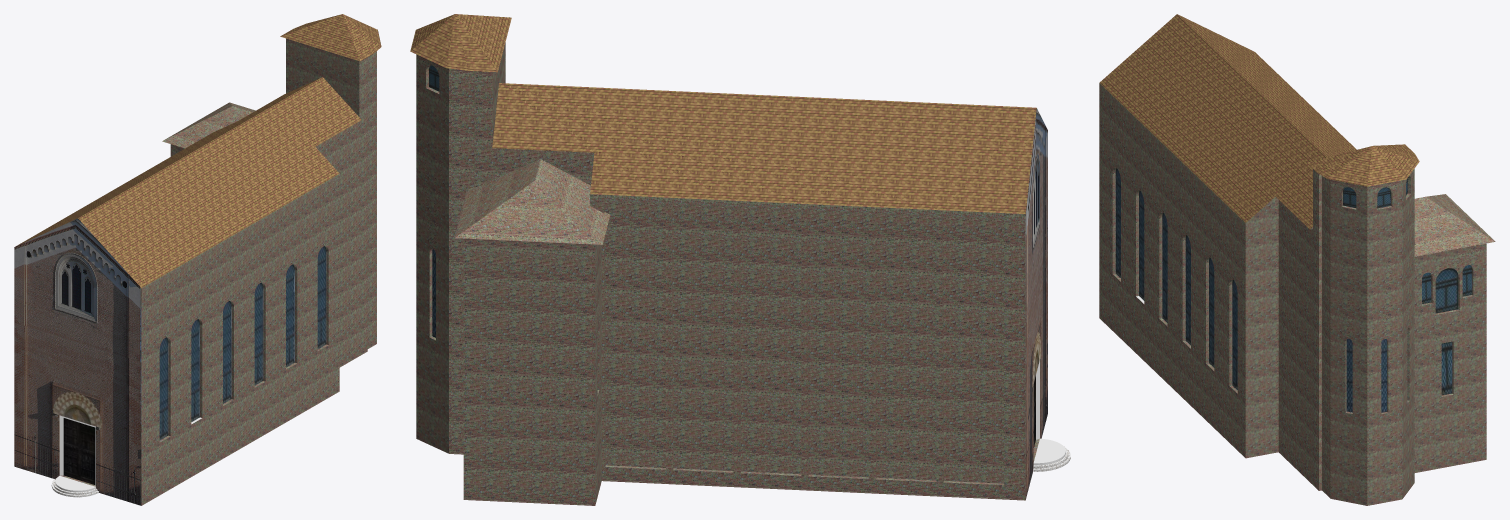
Rendered from render.dae.
3 renders of one model, left to right at view 1: azimuth 30°, elevation 25°; view 2: azimuth 150°, elevation 25°; view 3: azimuth 270°, elevation 25°, orthographic. The views are drawn at different scales.
Parts seen in each view (by area): view 1: SketchUp (×14), Group_3; view 2: SketchUp (×5); view 3: SketchUp (×17).
Part boxes in pixels (<box>): SketchUp (×14): <box>14,14,381,505</box>; Group_3: <box>55,476,95,492</box>; SketchUp (×5): <box>410,14,1047,505</box>; SketchUp (×17): <box>1099,14,1495,505</box>.
Bounding box in the file's own units: 1345 × 1029 × 988.
23 materials, 21 textured.
